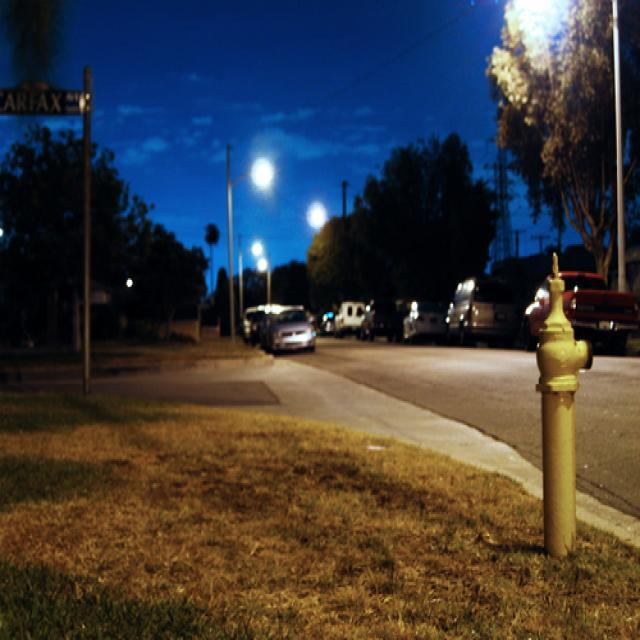fire_hydrant: (535, 263, 586, 552)
